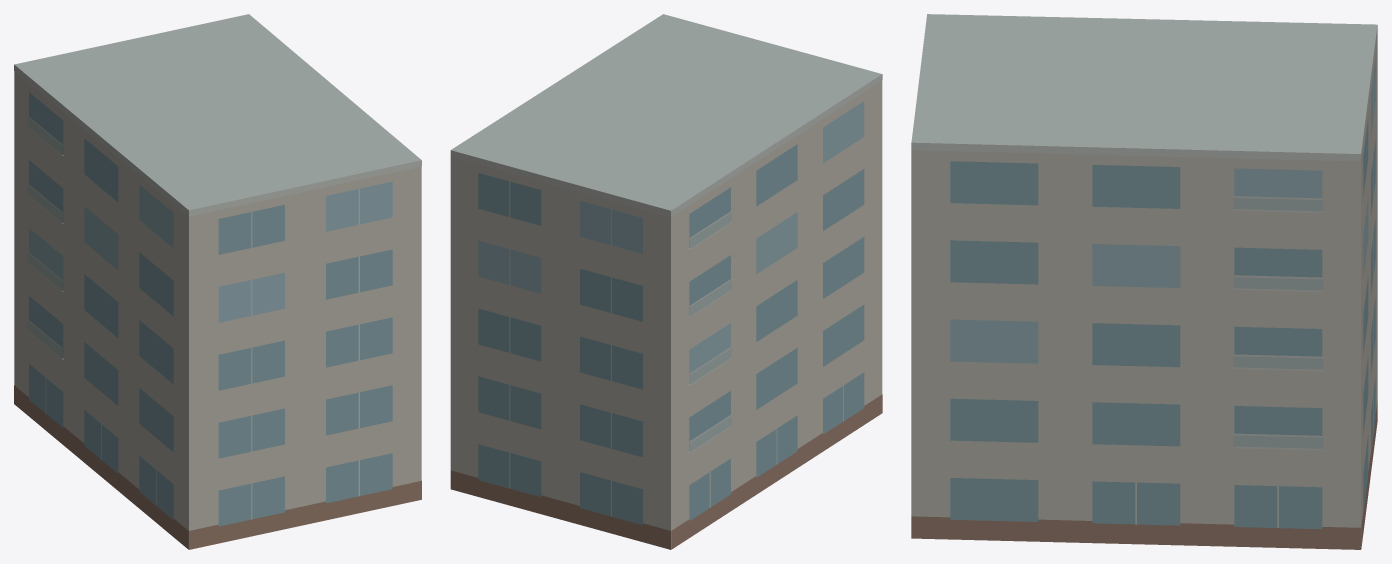
File: survey-upis-32951781.glb
3 renders of one model, left to right at view 1: azimuth 30°, elevation 25°; view 2: azimuth 150°, elevation 25°; view 3: azimuth 270°, elevation 25°, orthographic. The views are drawn at different scales.
Visible parts, largest first — view 1: survey-upis-32951781.tmp; view 2: survey-upis-32951781.tmp; view 3: survey-upis-32951781.tmp.
Part boxes in pixels (box(x1,y1,x2,y2)): survey-upis-32951781.tmp: box(14, 14, 421, 549); survey-upis-32951781.tmp: box(450, 14, 882, 549); survey-upis-32951781.tmp: box(911, 14, 1377, 549).
Bounding box in the file's own units: 9.84 × 12.95 × 13.84.
